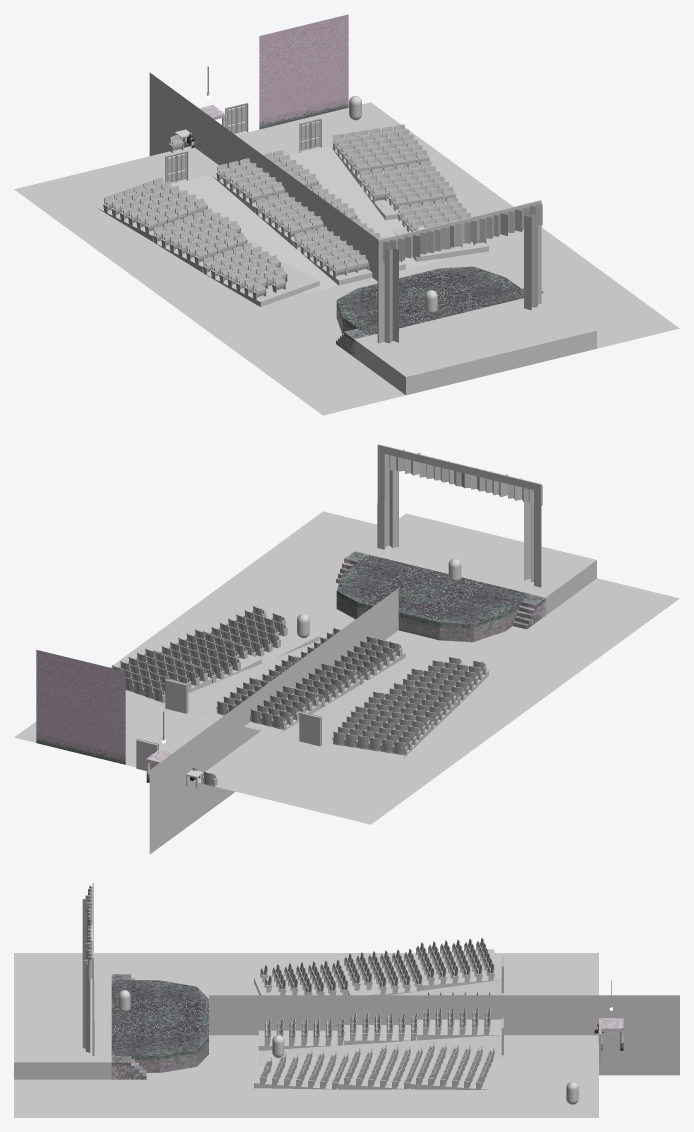
File: Vent.fbx
3 views of the same model, one above another, from view 1: azimuth 30°, elevation 25°; view 2: azimuth 150°, elevation 25°; view 3: azimuth 270°, elevation 25° (orthographic). The views are drawn at different scales.
Visible parts, largest first — view 1: Cube.004, Cube.007, Plane.001, Cube.005, Plane, Plane.009, Plane.006, Plane.012, Plane.002, Plane.003, Plane.004, Plane.005 (+6 smaller); view 2: Cube.004, Cube.005, Plane.001, Cube.007, Plane, Cube.006, Plane.009, Plane.006, Plane.002, Plane.003, Plane.004, Plane.005 (+5 smaller); view 3: Cube.004, Plane.001, Cube.007, Cube.005, Plane.011, Plane.006, Plane.012, Plane.007, Plane, Plane.009, Cube.002, Cube.006.
Part boxes in pixels (x1=…): Cube.004: x1=14, y1=102, x2=679, y2=415; Cube.007: x1=354, y1=293, x2=596, y2=395; Plane.001: x1=149, y1=72, x2=377, y2=280; Cube.005: x1=336, y1=266, x2=545, y2=357; Plane: x1=381, y1=204, x2=542, y2=343; Plane.009: x1=171, y1=175, x2=338, y2=293; Plane.006: x1=289, y1=146, x2=438, y2=269; Plane.012: x1=96, y1=204, x2=319, y2=306; Plane.002: x1=259, y1=72, x2=303, y2=129; Plane.003: x1=304, y1=61, x2=348, y2=118; Plane.004: x1=259, y1=25, x2=303, y2=82; Plane.005: x1=304, y1=14, x2=348, y2=71; Cube.004: x1=14, y1=511, x2=679, y2=824; Cube.005: x1=336, y1=551, x2=545, y2=642; Plane.001: x1=149, y1=588, x2=398, y2=854; Cube.007: x1=355, y1=513, x2=596, y2=615; Plane: x1=385, y1=449, x2=542, y2=581; Cube.006: x1=377, y1=444, x2=541, y2=587; Plane.009: x1=277, y1=658, x2=415, y2=747; Plane.006: x1=158, y1=637, x2=325, y2=718; Plane.002: x1=81, y1=707, x2=125, y2=764; Plane.003: x1=36, y1=696, x2=80, y2=753; Plane.004: x1=81, y1=660, x2=125, y2=717; Plane.005: x1=36, y1=650, x2=80, y2=707; Cube.004: x1=14, y1=953, x2=598, y2=1117; Plane.001: x1=209, y1=995, x2=679, y2=1075; Cube.007: x1=14, y1=974, x2=111, y2=1079; Cube.005: x1=111, y1=974, x2=208, y2=1079; Plane.011: x1=254, y1=1053, x2=505, y2=1089; Plane.006: x1=258, y1=1035, x2=501, y2=1066; Plane.012: x1=254, y1=949, x2=505, y2=995; Plane.007: x1=258, y1=1019, x2=501, y2=1050; Plane: x1=82, y1=885, x2=92, y2=1052; Plane.009: x1=336, y1=979, x2=501, y2=995; Cube.002: x1=599, y1=1018, x2=623, y2=1050; Cube.006: x1=92, y1=883, x2=94, y2=1055.
Size of the model in its own units: 3200 by 1400 by 5463.
